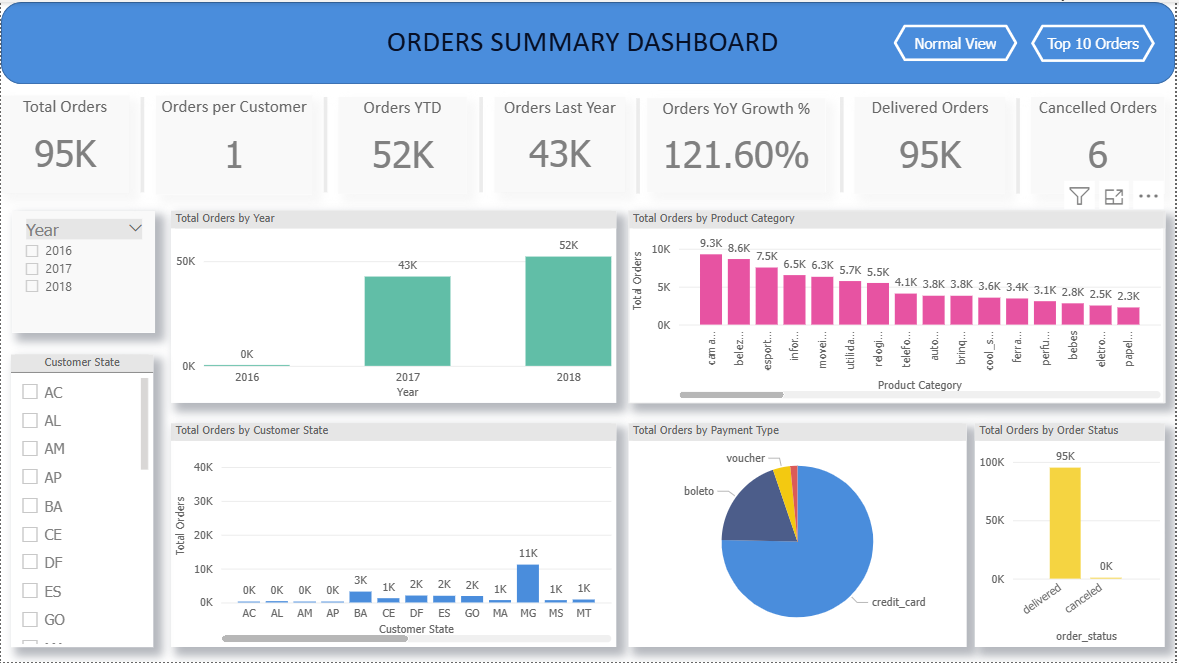

The dashboard page shown, as its layout file describes it:
{"tool":"powerbi","page":{"name":"Orders","canvas":[1280,720],"ordinal":2},"visuals":[{"type":"shape","box":[0,0,1280.5,89.5],"z":0},{"type":"textbox","box":[415.2,18.3,453.2,53.2],"z":1000},{"type":"shape","box":[143.6,103,22.1,104.3],"z":2000},{"type":"card","title":"Orders per Customer","fields":{"Values":["AllMeasures.Orders Per Customer"]},"box":[169.3,101.8,170.5,107.9],"z":3000},{"type":"shape","box":[343.7,104.3,20.9,104.3],"z":4000},{"type":"shape","box":[512,104.3,22.1,104.3],"z":5000},{"type":"shape","box":[906.1,104.3,20.9,104.3],"z":6000},{"type":"shape","box":[683.9,105.5,20.9,104.3],"z":7000},{"type":"card","title":"Total Orders","fields":{"Values":["AllMeasures.Total Orders"]},"box":[0,101.8,139.8,106.7],"z":8000},{"type":"card","title":"Orders YTD","fields":{"Values":["AllMeasures.Orders YTD"]},"box":[368,104.3,139.8,105.5],"z":9000},{"type":"card","title":"Orders Last Year","fields":{"Values":["AllMeasures.Orders Prev Year"]},"box":[538.4,104.3,142.3,104.3],"z":10000},{"type":"card","title":"Orders YoY Growth %","fields":{"Values":["AllMeasures.Orders YoY Growth %"]},"box":[704.1,104.9,194.1,102.7],"z":11000},{"type":"slicer","fields":{"Values":["DimDate.Year"]},"box":[12.3,227.6,156.3,133],"z":12000},{"type":"card","title":"Delivered Orders","fields":{"Values":["AllMeasures.Delivered Orders"]},"box":[930.9,104.3,164.4,105.5],"z":13000},{"type":"card","title":"Cancelled Orders","fields":{"Values":["AllMeasures.Cancelled Orders"]},"box":[1123.5,104.3,146,105.5],"z":14000},{"type":"shape","box":[1098.9,105.5,20.9,104.3],"z":15000},{"type":"clusteredColumnChart","fields":{"Y":["AllMeasures.Total Orders"],"Category":["DimDate.Year","DimDate.Month"]},"box":[185.1,227.6,485.4,209.8],"z":16000},{"type":"clusteredColumnChart","title":"Total Orders by Product Category","fields":{"Category":["DimProduct.product_category_name"],"Y":["AllMeasures.Total Orders"]},"box":[684.2,227.6,585.4,209.8],"z":17000},{"type":"clusteredColumnChart","title":"Total Orders by Customer State","fields":{"Category":["DimCustomer.customer_state","DimCustomer.customer_city"],"Y":["AllMeasures.Total Orders"]},"box":[185.1,459.3,485.4,244],"z":18000},{"type":"pieChart","title":"Total Orders by Payment Type","fields":{"Category":["FactSales.payment_type"],"Y":["AllMeasures.Total Orders"]},"box":[684.2,459.3,368.8,244],"z":19000},{"type":"slicer","title":"Customer State","fields":{"Values":["DimCustomer.customer_state"]},"box":[11,383.9,154.9,319.5],"z":20000},{"type":"clusteredColumnChart","title":"Total Orders by Order Status","fields":{"Y":["AllMeasures.Total Orders"],"Category":["FactSales.order_status"]},"box":[1062.6,459.3,207,244],"z":21000},{"type":"actionButton","box":[1123.7,24.8,135.2,40.9],"z":24000},{"type":"actionButton","box":[973.6,24.8,135.2,40],"z":25000}]}

Visuals, with their boxes in screenshot pixels (x1, y1, x2, y2), scaled from the page's 1280x720 canvas onto the 1179x663 screenshot:
shape: (0,0,1178,82)
textbox: (382,17,800,66)
shape: (132,95,153,191)
"Orders per Customer" card: (156,94,313,193)
shape: (317,96,336,192)
shape: (472,96,492,192)
shape: (835,96,854,192)
shape: (630,97,649,193)
"Total Orders" card: (0,94,129,192)
"Orders YTD" card: (339,96,468,193)
"Orders Last Year" card: (496,96,627,192)
"Orders YoY Growth %" card: (649,97,827,191)
slicer - DimDate.Year: (11,210,155,332)
"Delivered Orders" card: (857,96,1009,193)
"Cancelled Orders" card: (1035,96,1169,193)
shape: (1012,97,1031,193)
clusteredColumnChart - AllMeasures.Total Orders x DimDate.Year: (170,210,618,403)
"Total Orders by Product Category" clusteredColumnChart: (630,210,1169,403)
"Total Orders by Customer State" clusteredColumnChart: (170,423,618,648)
"Total Orders by Payment Type" pieChart: (630,423,970,648)
"Customer State" slicer: (10,354,153,648)
"Total Orders by Order Status" clusteredColumnChart: (979,423,1169,648)
actionButton: (1035,23,1160,60)
actionButton: (897,23,1021,60)
